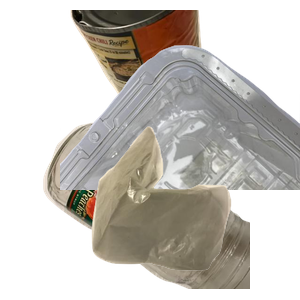glass: (41, 120, 281, 300)
metal: (68, 10, 265, 131)
plastic: (60, 43, 300, 223)
trash: (89, 124, 300, 300)
